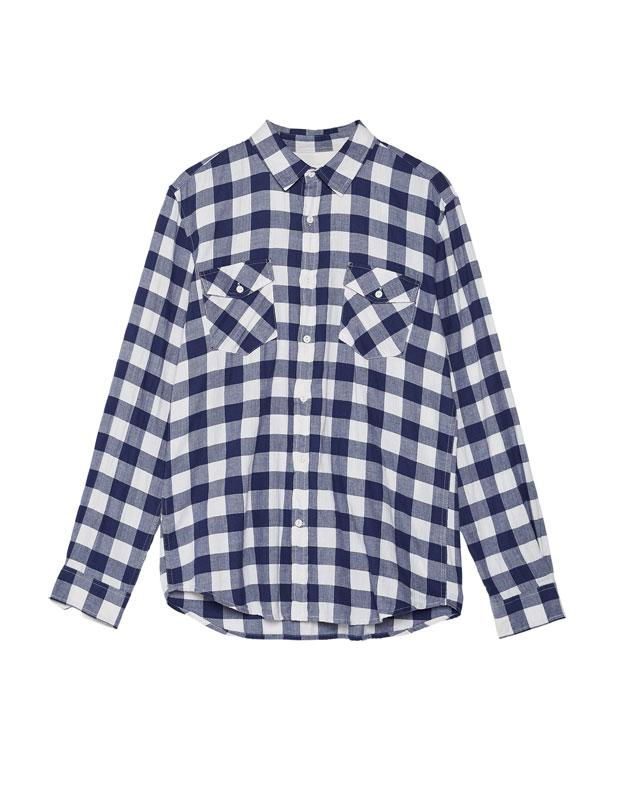teeshirt: (53, 116, 580, 674)
